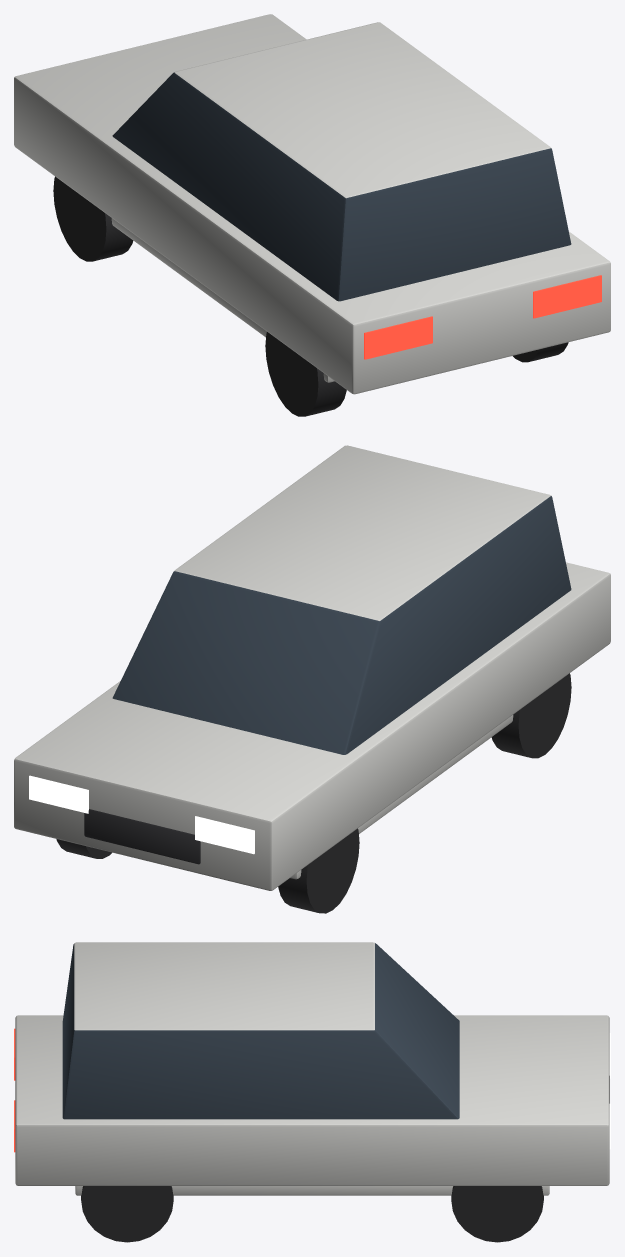
Rendered from hatch.glb.
3 views of the same model, one above another, from view 1: azimuth 30°, elevation 25°; view 2: azimuth 150°, elevation 25°; view 3: azimuth 270°, elevation 25° (orthographic). The views are drawn at different scales.
Parts seen in each view (by area): view 1: body, lights, wheel_rl, wheel_fl; view 2: body, wheel_fl, wheel_rl, lights; view 3: body, wheel_fr, wheel_rr.
Part boxes in pixels (<box>): body: <box>14,14,610,394</box>; lights: <box>364,275,601,359</box>; wheel_rl: <box>265,332,346,416</box>; wheel_fl: <box>53,176,133,261</box>; body: <box>14,445,610,890</box>; wheel_fl: <box>278,828,359,913</box>; wheel_rl: <box>491,673,571,758</box>; lights: <box>29,775,254,854</box>; body: <box>15,942,609,1195</box>; wheel_fr: <box>451,1186,543,1242</box>; wheel_rr: <box>81,1186,173,1242</box>.
Bounding box in the file's own units: 1.75 × 1.5 × 4.
